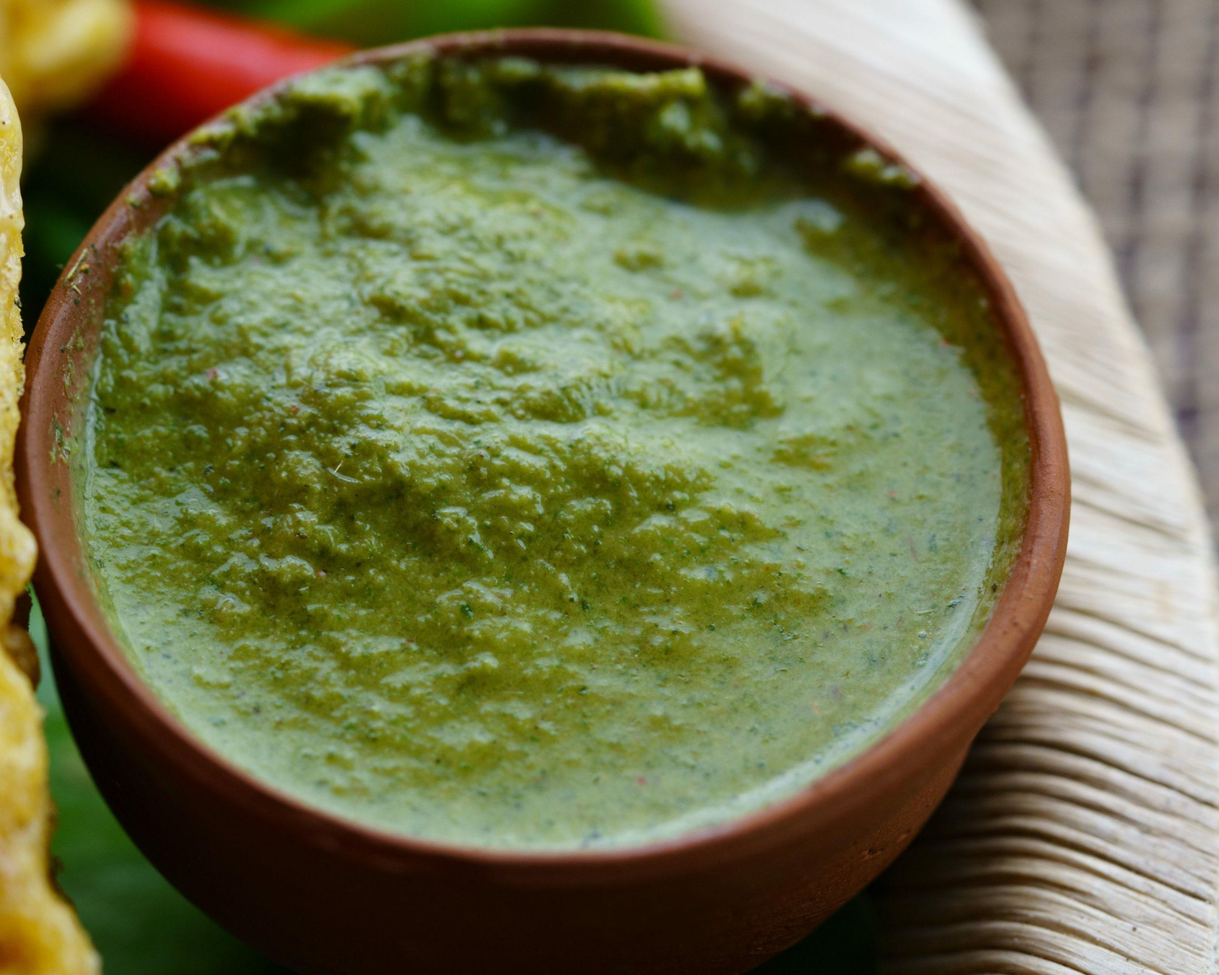GreenChutney: (65, 56, 1002, 848)
